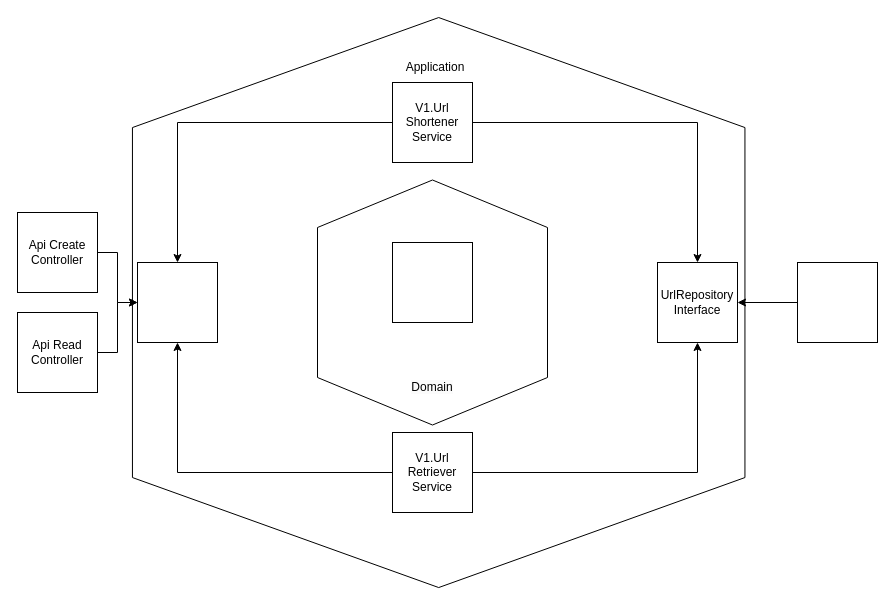
The diagram is 895 pixels wide and 605 high, and some of its shapes have lost their labels. The centre of each missing label's shape, as x and y in pixels:
Application Interface: [177,302]
Url: [432,282]
UrlInMemory Repository: [837,302]
